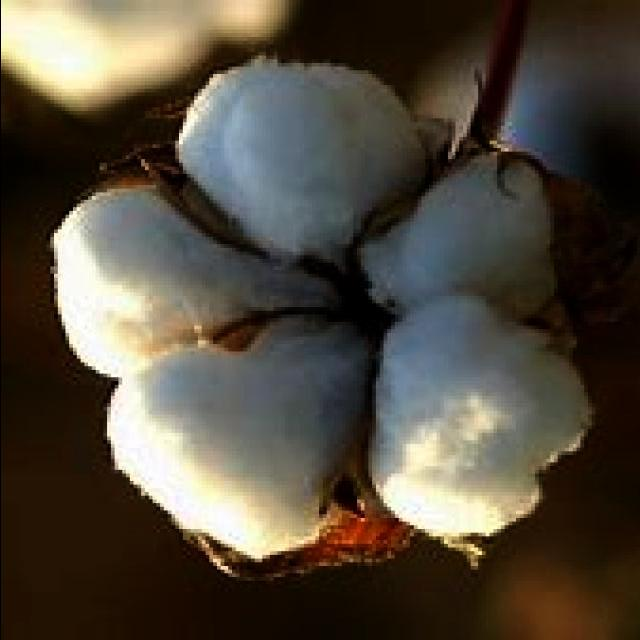Matured Cotton Boll: (50, 54, 588, 574)
